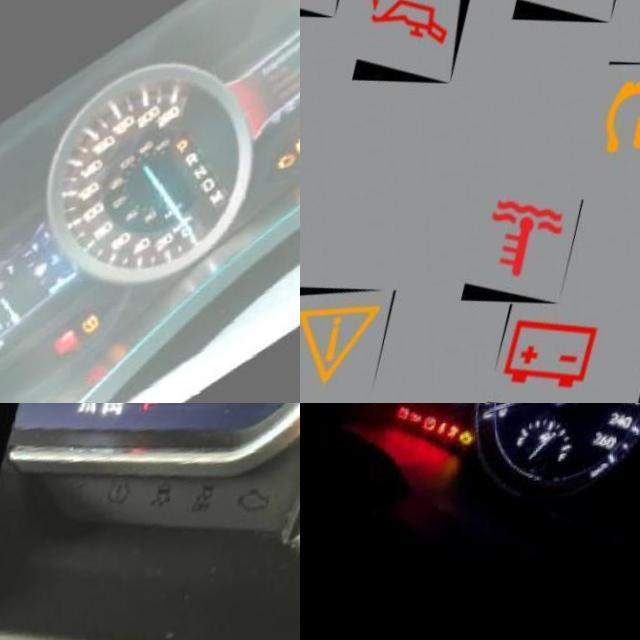Seat Belt: (425, 437, 440, 456)
